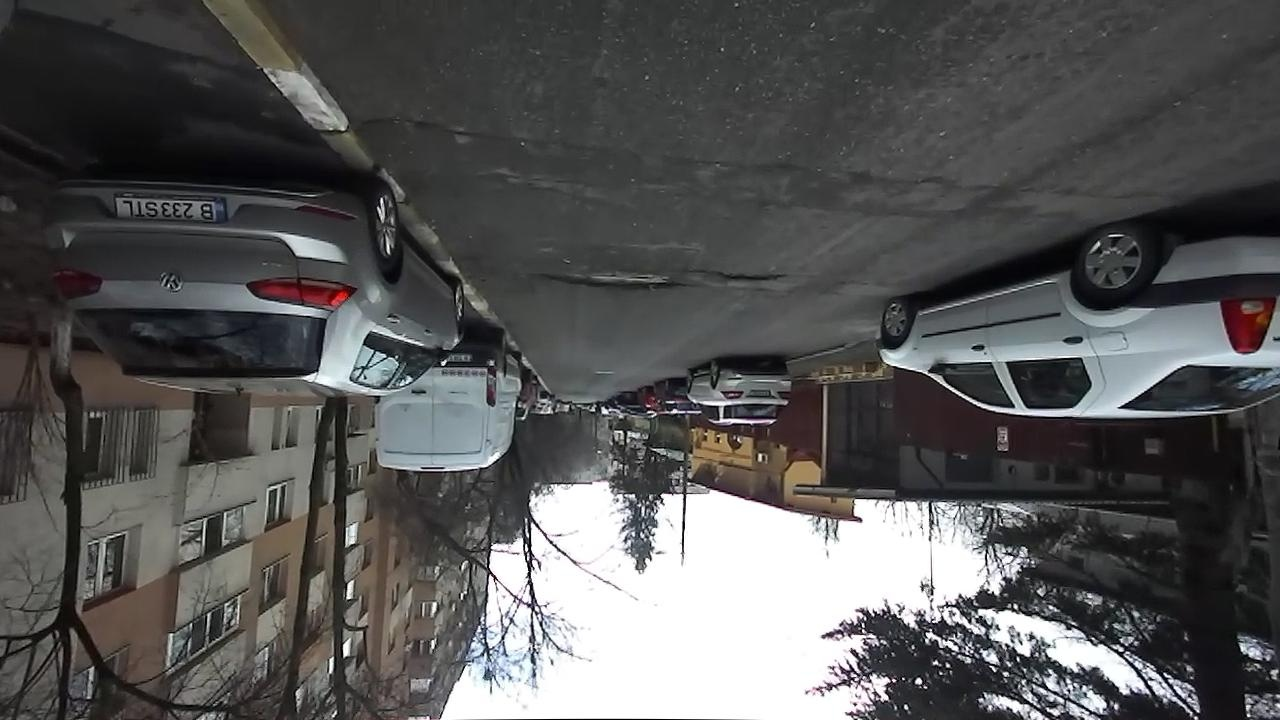pothole: (534, 264, 694, 296), (364, 109, 477, 142), (705, 269, 789, 286)
